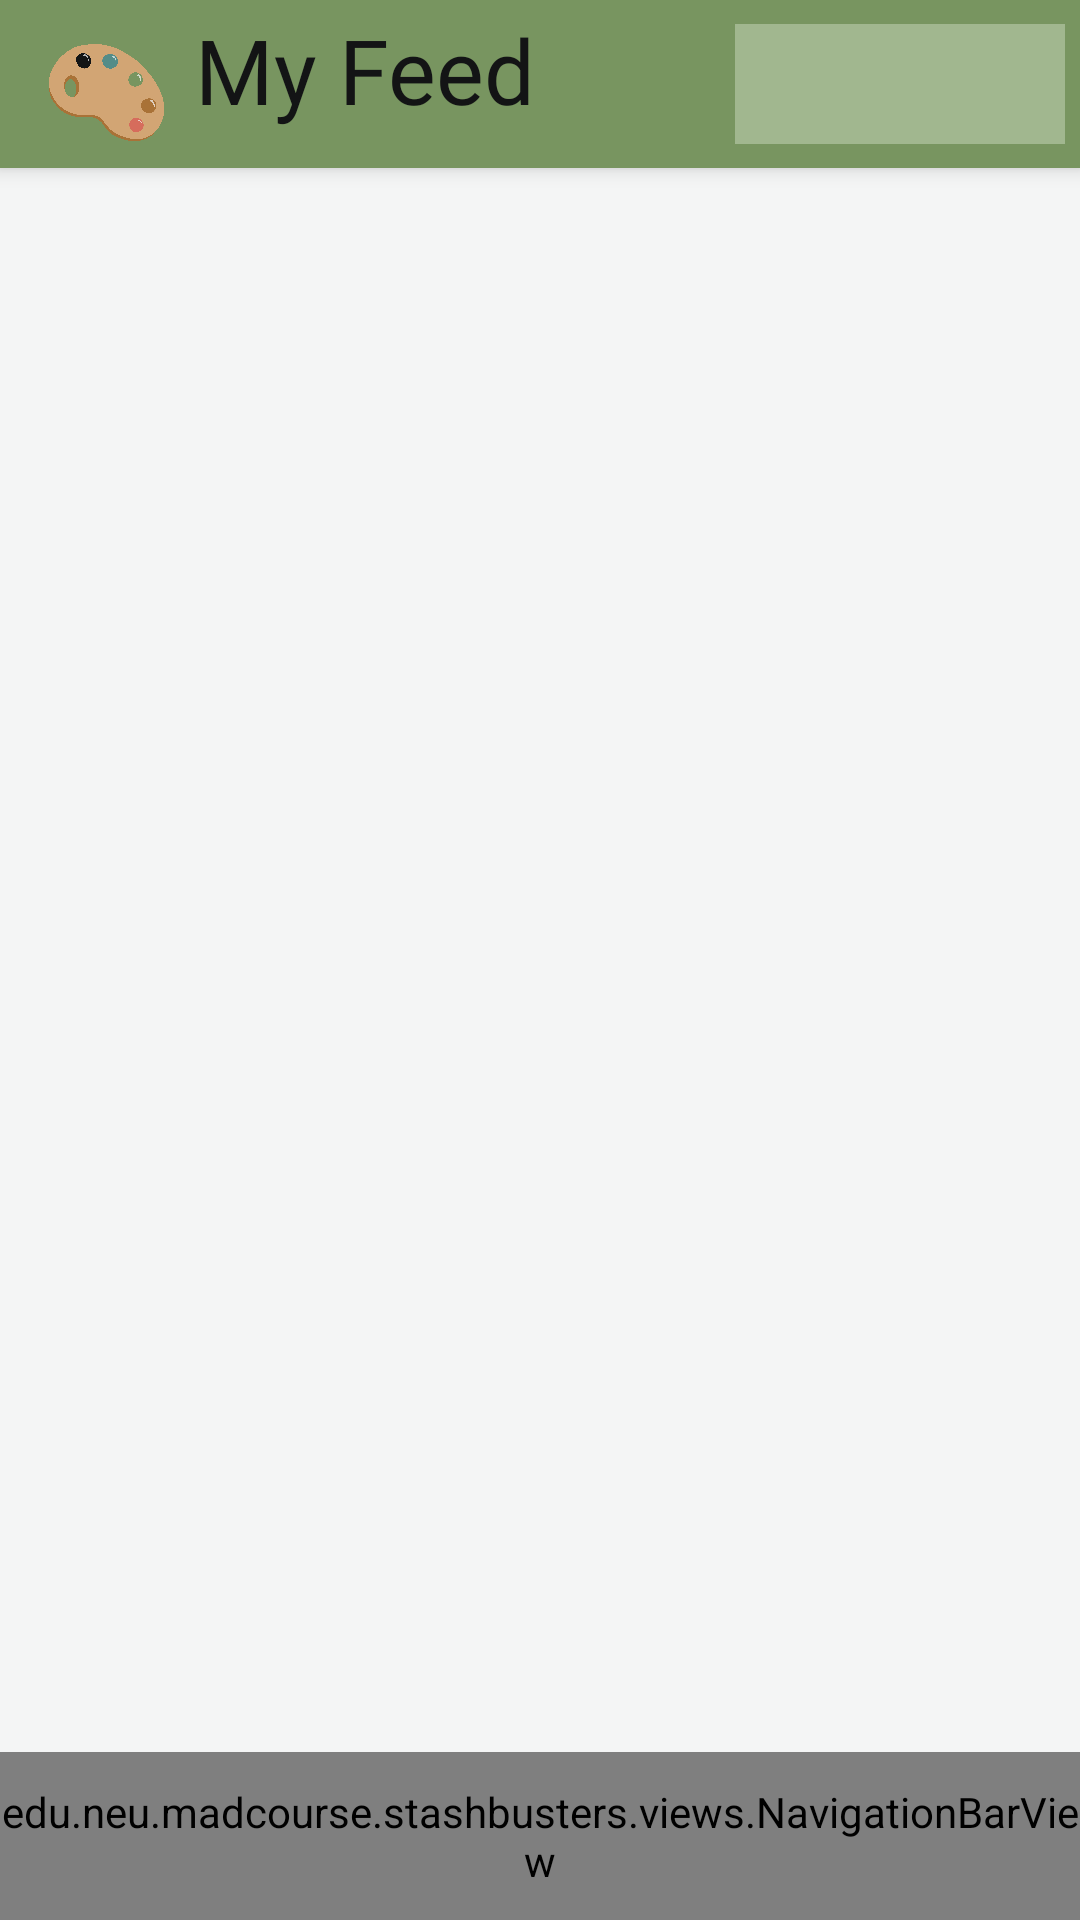

Screen size 1080x1920. Icon name, then its box in pixels as (x1, y1, x2, y2):
palette: (49, 44, 164, 141)
